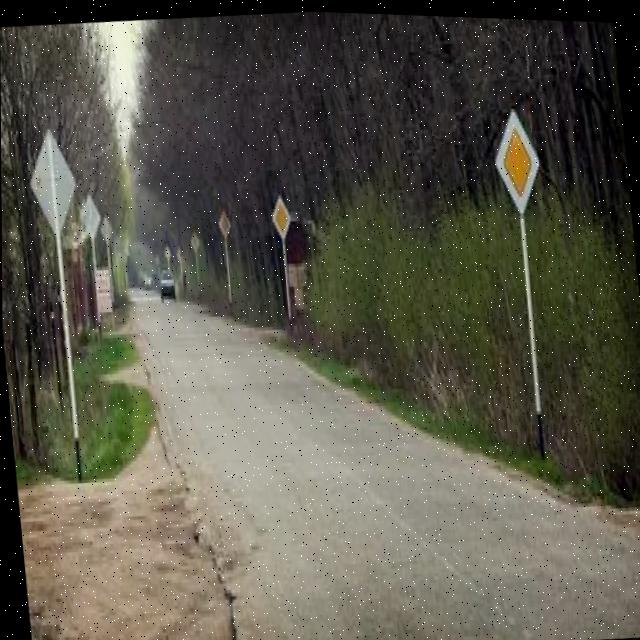signs: (491, 102, 545, 216), (271, 192, 292, 237), (216, 205, 232, 236), (188, 227, 201, 254), (162, 239, 171, 258)
